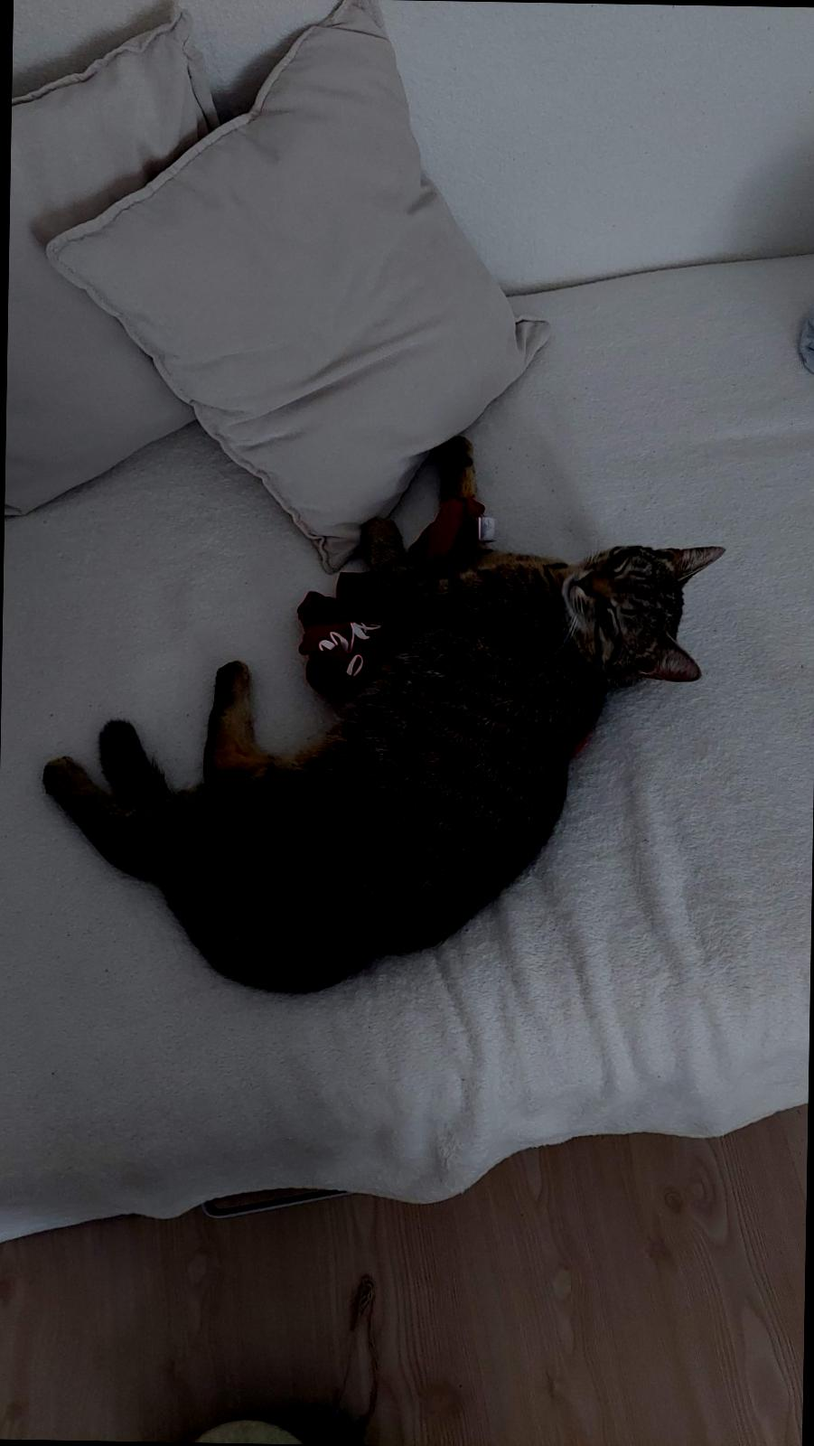macka: (36, 427, 726, 1005)
